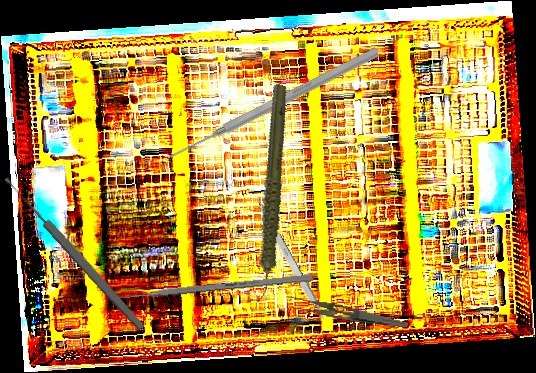Dressing Forceps: (284, 293, 410, 329)
Handpiece: (206, 82, 332, 305)
Pusher: (164, 44, 381, 165), (108, 273, 313, 303)
Scalpel Handle: (254, 201, 327, 322)
Surgical Spoon: (1, 173, 147, 333)
